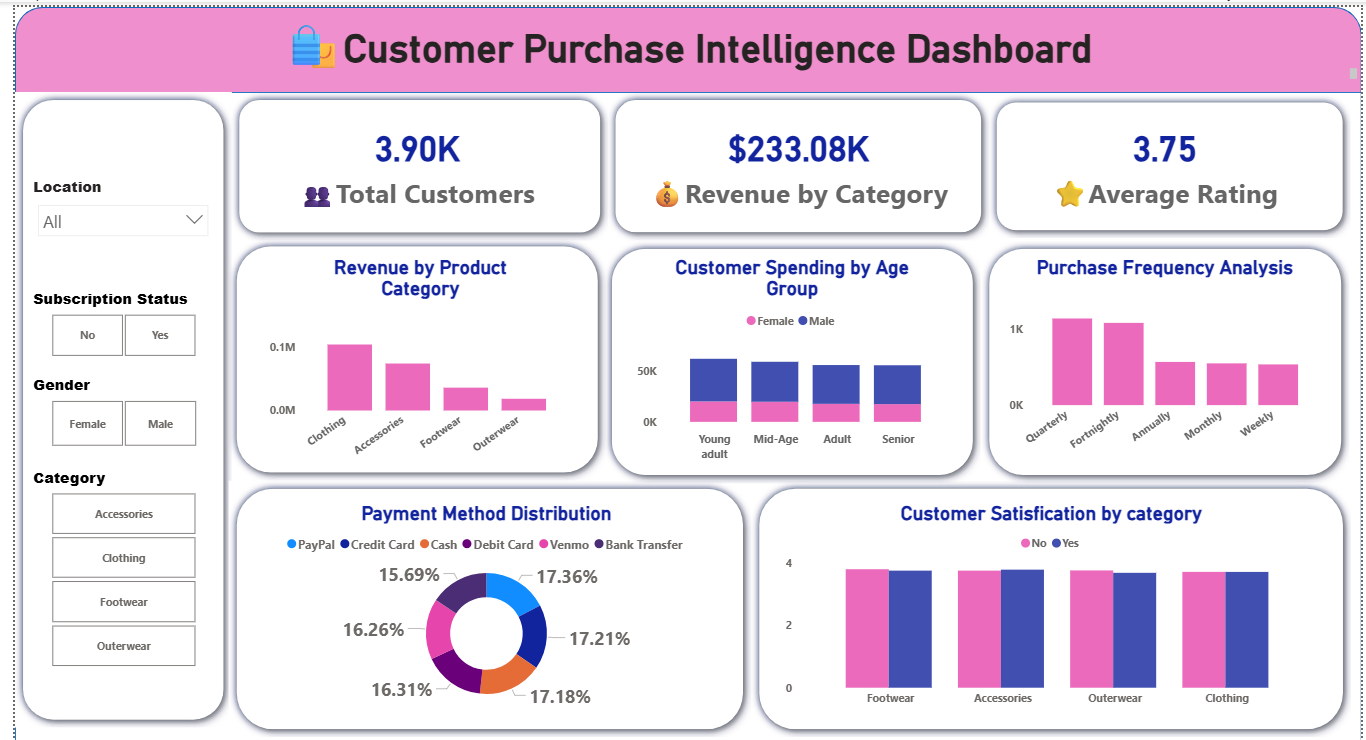

Layout of this report page (visuals, bound fields, positions):
{"tool":"powerbi","page":{"name":"Page 1","canvas":[1500,820],"ordinal":0},"visuals":[{"type":"shape","box":[241.5,260.7,356.8,222.3],"z":0},{"type":"shape","box":[0,0,1500.3,123.8],"z":1000},{"type":"shape","box":[0,94.9,1500.3,725.2],"z":2000},{"type":"textbox","title":"🛍️Customer Purchase Intelligence Dashboard","box":[0,9.6,1500.3,75.6],"z":3000},{"type":"shape","box":[0,95.1,241.3,708.3],"z":4000},{"type":"shape","box":[241.2,94.9,420,165.6],"z":5000},{"type":"shape","box":[659.9,94.5,425.3,165.4],"z":6000},{"type":"shape","box":[238,258.2,420.2,270],"z":7000},{"type":"clusteredColumnChart","title":"Revenue by Product Category","fields":{"Category":["customer_shopping.category"],"Y":["Sum(customer_shopping.purchase_amount)"]},"box":[278.2,276.8,346.3,235.6],"z":8000},{"type":"shape","box":[1085.2,97.9,403.4,160.3],"z":9000},{"type":"shape","box":[238.6,527.4,582,286],"z":10000},{"type":"shape","box":[656.5,259.9,420.2,270],"z":11000},{"type":"shape","box":[1076.7,259.9,410.1,270],"z":12000},{"type":"columnChart","title":"Customer Spending by Age Group","fields":{"Category":["customer_shopping.age_group"],"Y":["Sum(customer_shopping.purchase_amount)"],"Series":["customer_shopping.gender"]},"box":[688.6,276.8,356.1,236.3],"z":13000},{"type":"card","fields":{"Values":["customer_shopping.total revenue"]},"box":[278.5,111.4,346,124.9],"z":14000},{"type":"card","fields":{"Values":["customer_shopping.👥Total Customers"]},"box":[698.7,111.4,346,124.9],"z":15000},{"type":"card","fields":{"Values":["customer_shopping.⭐Average Rating"]},"box":[1108.8,111.4,346,124.9],"z":16000},{"type":"card","fields":{"Values":["customer_shopping.👥Total Customers"]},"box":[718.2,110.7,346.3,124.9],"z":17000},{"type":"clusteredColumnChart","title":"Purchase Frequency Analysis","fields":{"Category":["customer_shopping.frequency_of_purchases"],"Y":["Count(customer_shopping.customer_id)"]},"box":[1102.9,276.8,356.3,235.6],"z":18000},{"type":"shape","box":[820.6,527.4,668.2,286],"z":19000},{"type":"donutChart","title":"Payment Method Distribution","fields":{"Category":["customer_shopping.payment_method"],"Y":["Count(customer_shopping.customer_id)"]},"box":[264.4,551.8,521.7,237.1],"z":20000},{"type":"slicer","title":"Subscription Status","fields":{"Values":["customer_shopping.subscription_status"]},"box":[15.8,313.3,209.8,81.9],"z":21000},{"type":"slicer","title":"Gender","fields":{"Values":["customer_shopping.gender"]},"box":[15.3,409.4,210.3,86.3],"z":22000},{"type":"slicer","title":"Category","fields":{"Values":["customer_shopping.category"]},"box":[15.8,513,209.8,228.5],"z":23000},{"type":"slicer","title":"Location","fields":{"Values":["customer_shopping.location"]},"box":[15.8,188.3,209.8,89.1],"z":24000},{"type":"clusteredColumnChart","title":"Customer Satisfication by category","fields":{"Category":["customer_shopping.category"],"Y":["Avg(customer_shopping.review_rating)"],"Series":["customer_shopping.subscription_status"]},"box":[853.6,551.8,602.1,237.1],"z":25000}]}

Visuals, with their boxes in screenshot pixels (x1, y1, x2, y2), scaled from the page's 1500x820 canvas onto the 1366x740 screenshot:
shape: [x1=220, y1=235, x2=545, y2=436]
shape: [x1=0, y1=0, x2=1365, y2=112]
shape: [x1=0, y1=86, x2=1365, y2=739]
"🛍️Customer Purchase Intelligence Dashboard" textbox: [x1=0, y1=9, x2=1365, y2=77]
shape: [x1=0, y1=86, x2=220, y2=725]
shape: [x1=220, y1=86, x2=602, y2=235]
shape: [x1=601, y1=85, x2=988, y2=235]
shape: [x1=217, y1=233, x2=599, y2=477]
"Revenue by Product Category" clusteredColumnChart: [x1=253, y1=250, x2=569, y2=462]
shape: [x1=988, y1=88, x2=1356, y2=233]
shape: [x1=217, y1=476, x2=747, y2=734]
shape: [x1=598, y1=235, x2=981, y2=478]
shape: [x1=981, y1=235, x2=1354, y2=478]
"Customer Spending by Age Group" columnChart: [x1=627, y1=250, x2=951, y2=463]
card - customer_shopping.total revenue: [x1=254, y1=101, x2=569, y2=213]
card - customer_shopping.👥Total Customers: [x1=636, y1=101, x2=951, y2=213]
card - customer_shopping.⭐Average Rating: [x1=1010, y1=101, x2=1325, y2=213]
card - customer_shopping.👥Total Customers: [x1=654, y1=100, x2=969, y2=213]
"Purchase Frequency Analysis" clusteredColumnChart: [x1=1004, y1=250, x2=1329, y2=462]
shape: [x1=747, y1=476, x2=1356, y2=734]
"Payment Method Distribution" donutChart: [x1=241, y1=498, x2=716, y2=712]
"Subscription Status" slicer: [x1=14, y1=283, x2=205, y2=357]
"Gender" slicer: [x1=14, y1=369, x2=205, y2=447]
"Category" slicer: [x1=14, y1=463, x2=205, y2=669]
"Location" slicer: [x1=14, y1=170, x2=205, y2=250]
"Customer Satisfication by category" clusteredColumnChart: [x1=777, y1=498, x2=1326, y2=712]
